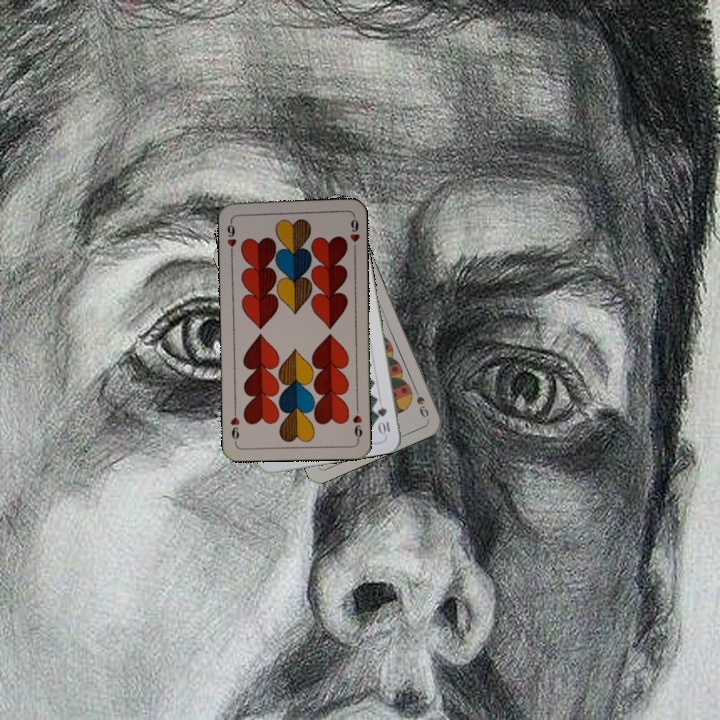G10: (374, 403, 393, 437)
H9: (348, 402, 364, 443), (223, 216, 239, 256)
S9: (409, 381, 431, 421)
